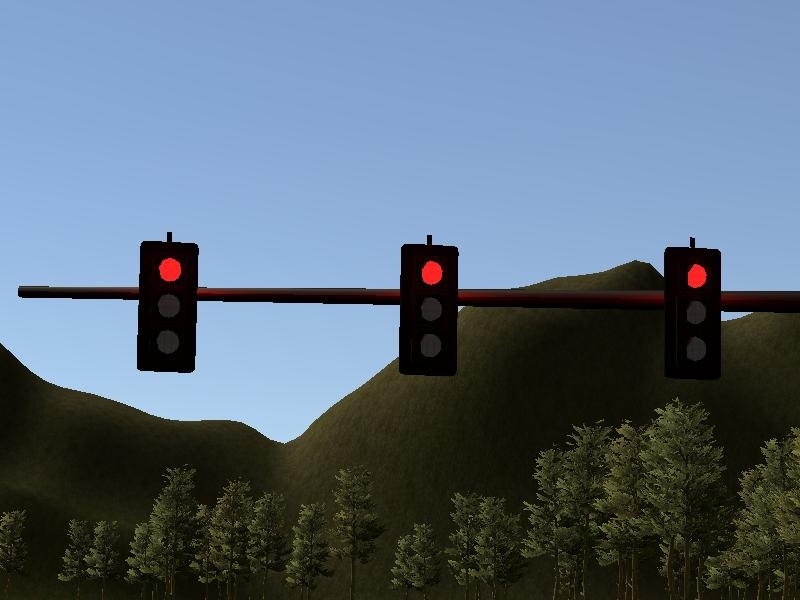Red: (134, 237, 202, 375), (396, 241, 461, 381), (660, 245, 724, 381)
